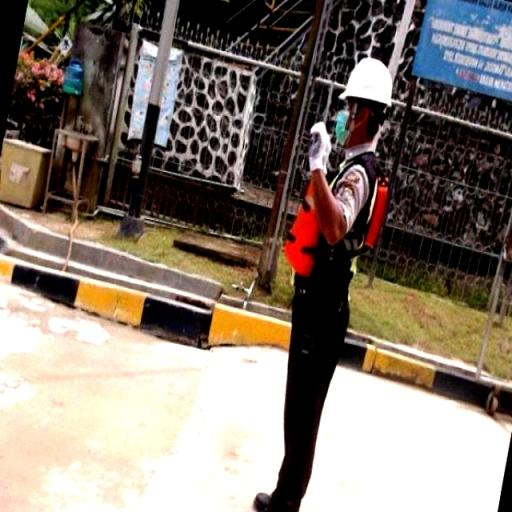Person: (248, 49, 402, 504)
gloves: (304, 120, 335, 176)
helmet: (337, 55, 394, 107)
vest: (283, 165, 398, 294)
